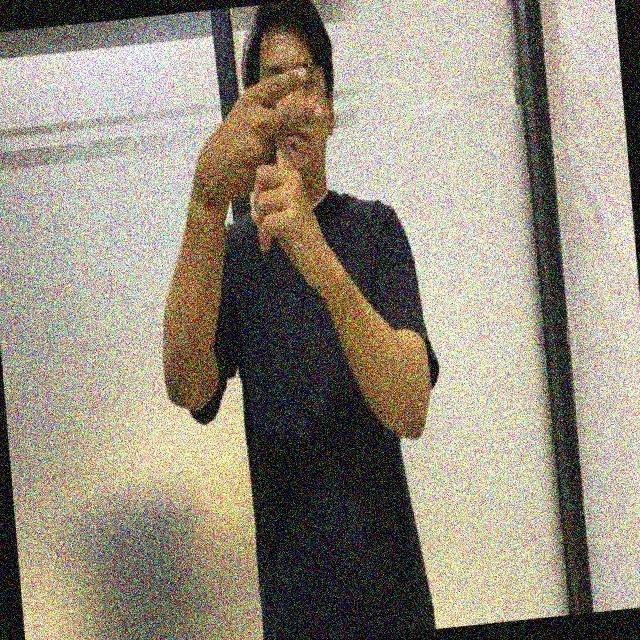F: (203, 61, 332, 264)
